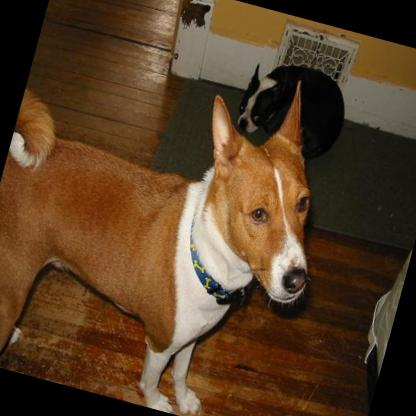basenji: (0, 8, 359, 416)
